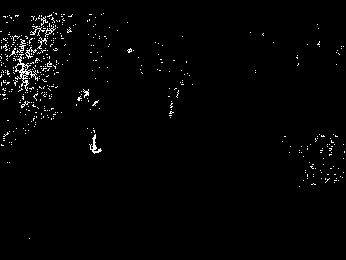person: (76, 89, 103, 155)
